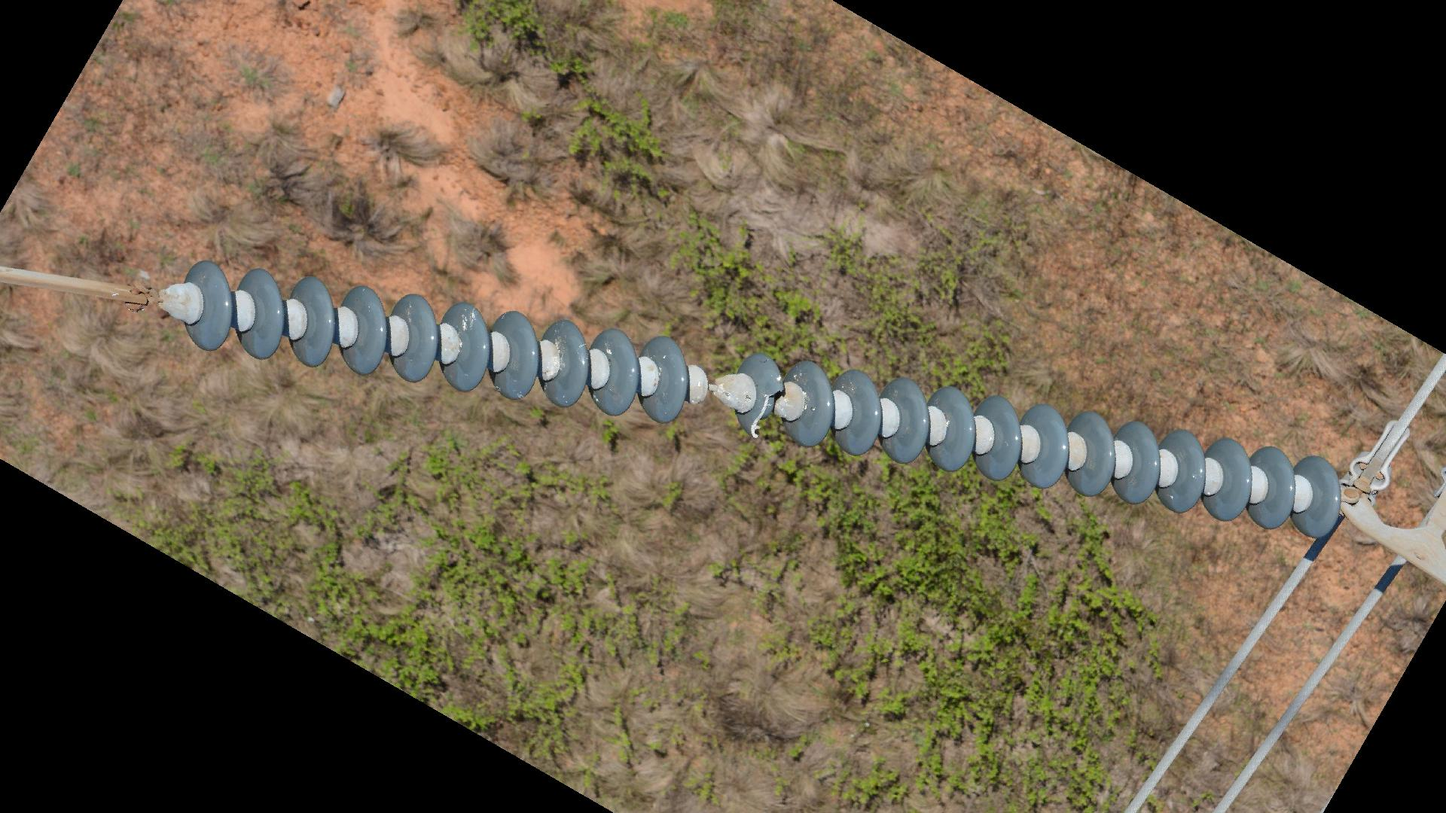insulator: (725, 346, 1348, 544), (179, 255, 697, 430)
insulator_breakage: (747, 385, 788, 442)
